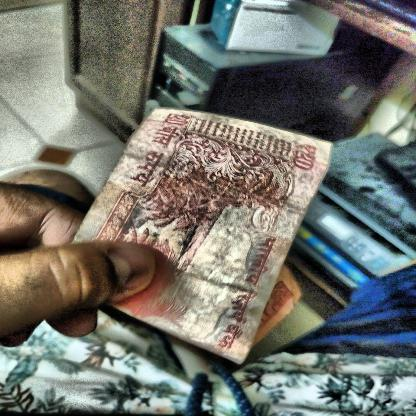Rs20: (287, 140, 325, 176), (159, 109, 198, 131)
